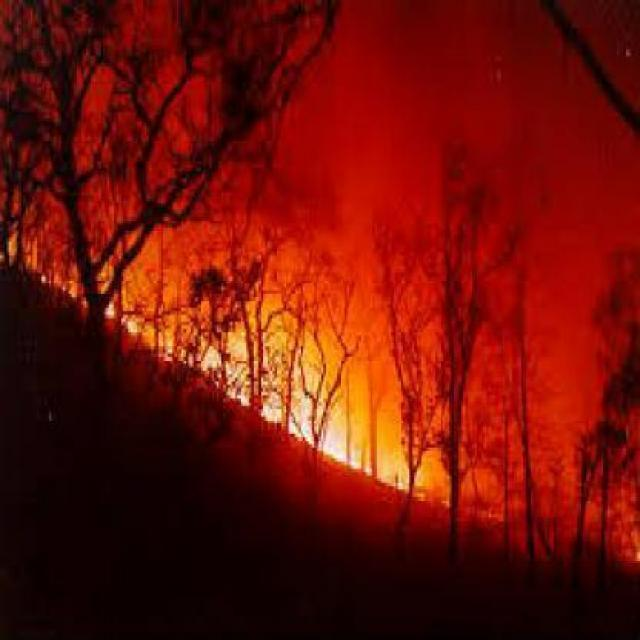Fire: (228, 366, 432, 496)
